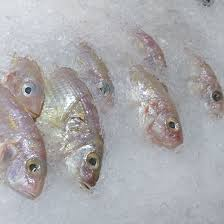Ikan Kerisi: (40, 52, 113, 198), (115, 32, 193, 165), (1, 81, 49, 212), (172, 41, 224, 134)
